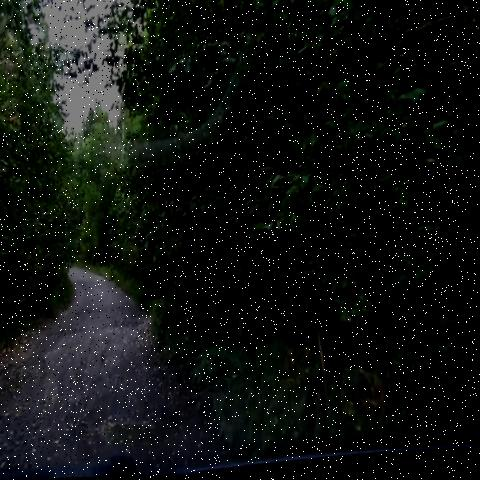pothole: (76, 409, 188, 457), (52, 326, 92, 353), (102, 314, 151, 336), (74, 299, 109, 324)
